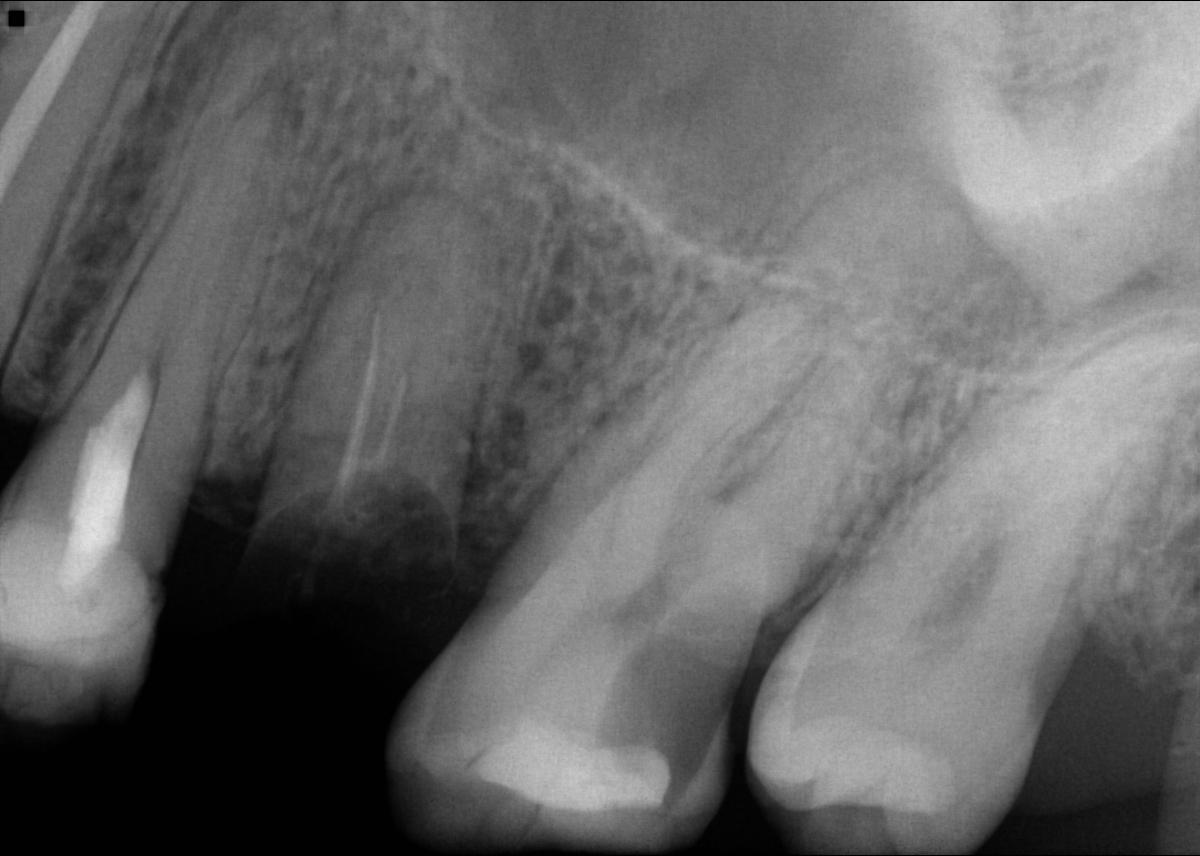Furcation Involvement: (279, 176, 455, 424)
